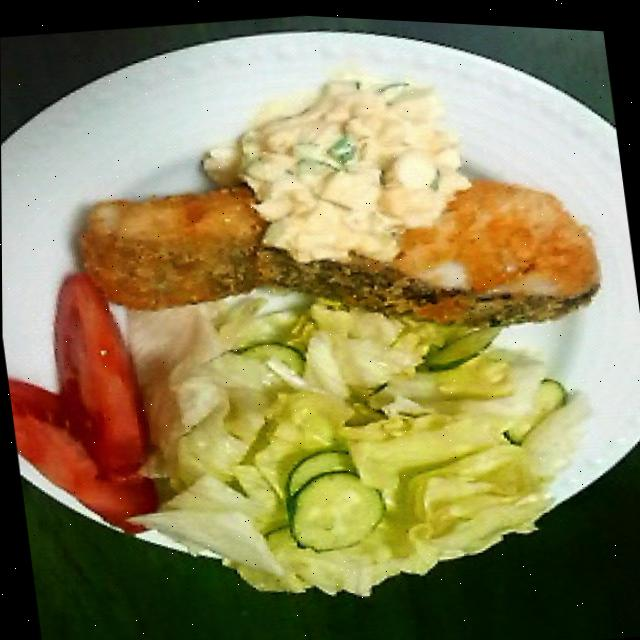炸货点心: (46, 123, 620, 371)
熟制海鲜: (46, 123, 620, 371)
